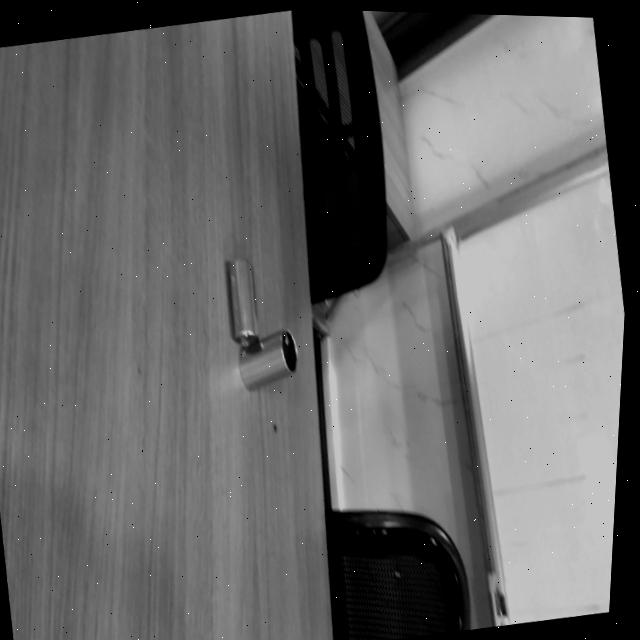Co_Lon: (230, 325, 306, 392)
Co_Nho: (224, 257, 261, 354)
